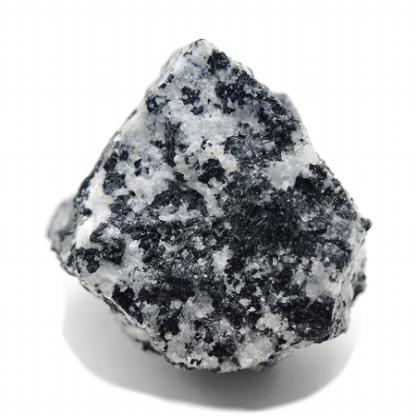Igneous_Diorite: (44, 41, 376, 383)
